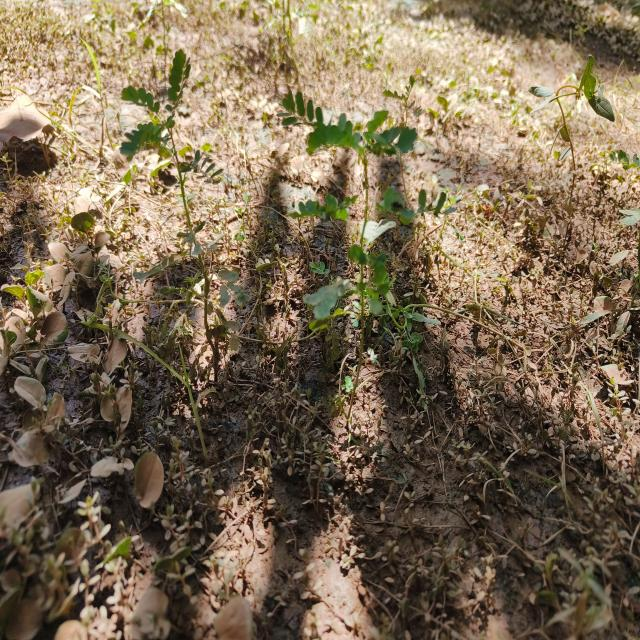weed: (294, 111, 422, 405), (117, 51, 199, 284)
